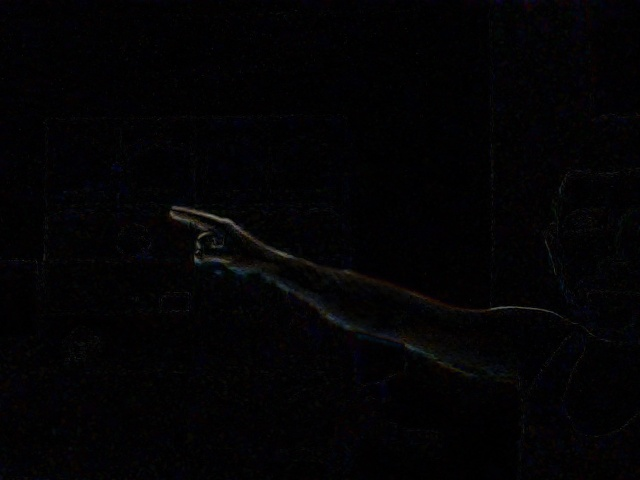hand_po: (166, 196, 273, 285)
